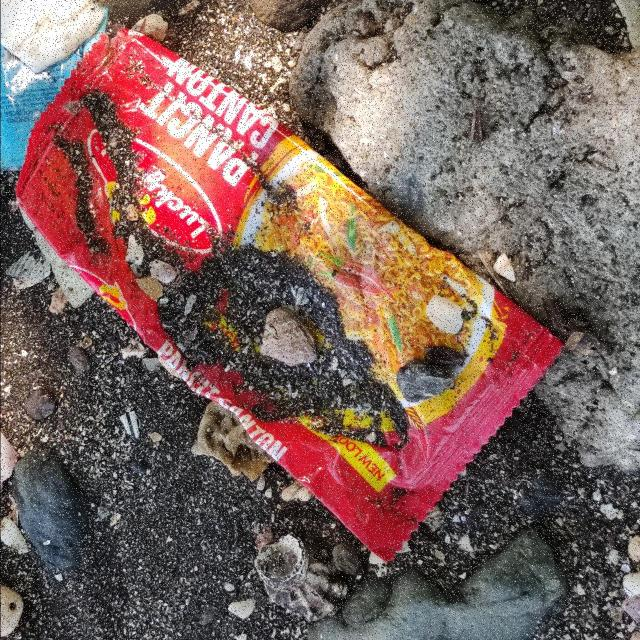plastic_waste: (15, 27, 569, 566)
